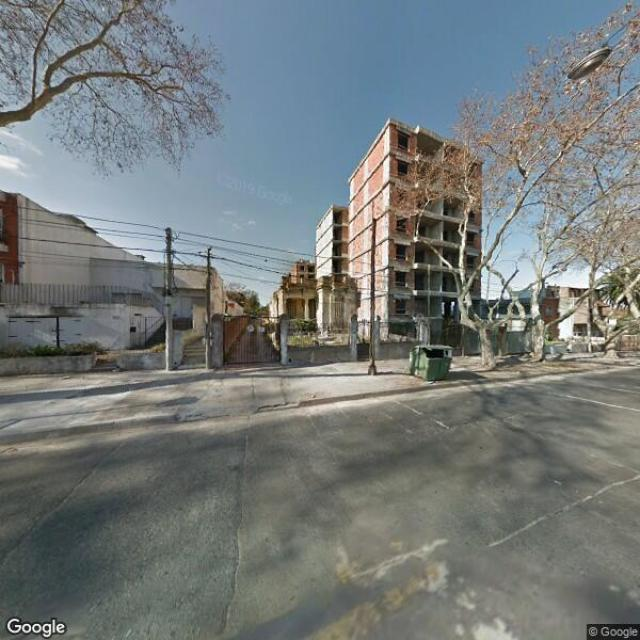garbage container: (402, 339, 460, 388)
